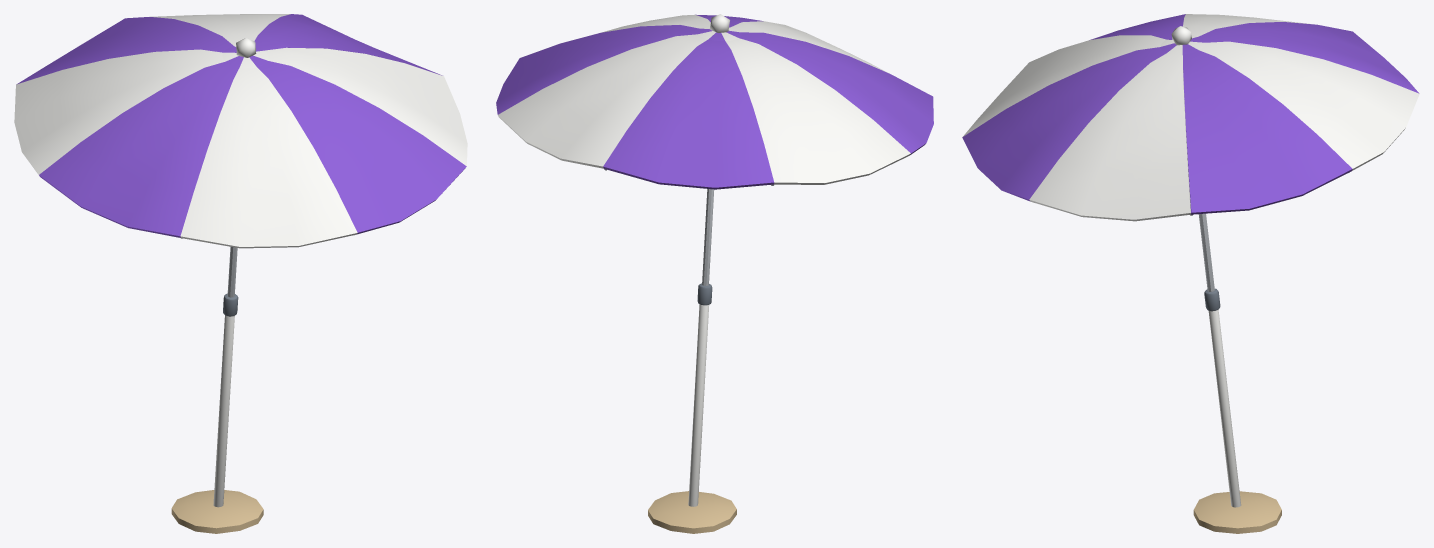
Rendered from guarda_sol_praia_roxo.glb.
3 renders of one model, left to right at view 1: azimuth 30°, elevation 25°; view 2: azimuth 150°, elevation 25°; view 3: azimuth 270°, elevation 25°, orthographic. The views are drawn at different scales.
Visible parts, largest first — view 1: guarda_sol_praia_roxo; view 2: guarda_sol_praia_roxo; view 3: guarda_sol_praia_roxo.
Part boxes in pixels (x1,y1,x2,y2): guarda_sol_praia_roxo: (14,14,467,533); guarda_sol_praia_roxo: (496,14,933,533); guarda_sol_praia_roxo: (962,14,1419,533).
Bounding box in the file's own units: 2.01 × 2.38 × 2.
1 material, 1 textured.
